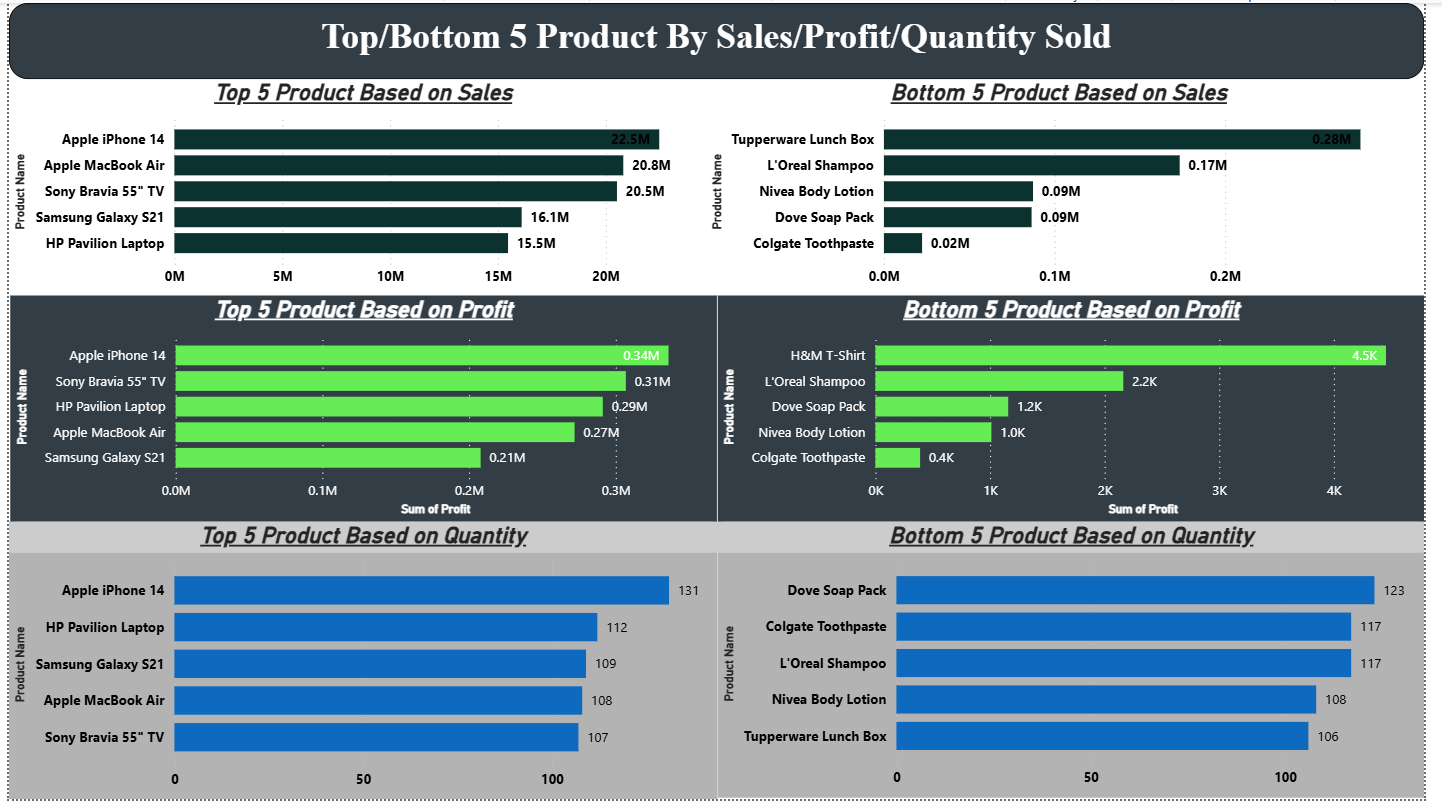

What the dashboard file says about the page in this screenshot:
{"tool":"powerbi","page":{"name":"Page 1","canvas":[1280,720],"ordinal":0},"visuals":[{"type":"barChart","title":"Top 5 Product Based on Sales","fields":{"Category":["Sheet3.Dim Product.Product Name"],"Y":["Sum(Sheet3.Total Sales.1)"]},"box":[0,68.6,640.7,196.5],"z":0},{"type":"barChart","title":"Bottom 5 Product Based on Sales","fields":{"Category":["Sheet3.Dim Product.Product Name"],"Y":["Sum(Sheet3.Total Sales.1)"]},"box":[630.2,68.6,639.5,196.5],"z":1000},{"type":"barChart","title":"Top 5 Product Based on Profit","fields":{"Category":["Sheet3.Dim Product.Product Name"],"Y":["Sum(Sheet3.Profit)"]},"box":[1.2,265.1,639.5,204.7],"z":2000},{"type":"barChart","title":"Bottom 5 Product Based on Profit","fields":{"Category":["Sheet3.Dim Product.Product Name"],"Y":["Sum(Sheet3.Profit)"]},"box":[640.7,265.1,639.5,204.7],"z":3000},{"type":"textbox","box":[0,0,1280.3,68.6],"z":4000},{"type":"barChart","title":"Top 5 Product Based on Quantity","fields":{"Category":["Sheet3.Dim Product.Product Name"],"Y":["CountNonNull(Sheet3.Dim Product.Price (INR))"]},"box":[0,469.3,640.8,251.1],"z":5000},{"type":"barChart","title":"Bottom 5 Product Based on Quantity","fields":{"Category":["Sheet3.Dim Product.Product Name"],"Y":["CountNonNull(Sheet3.Dim Product.Price (INR))"]},"box":[640.8,469.3,639.5,249.7],"z":6000}]}

Visuals, with their boxes in screenshot pixels (x1, y1, x2, y2), scaled from the page's 1280x720 canvas onto the 1442x806 screenshot:
"Top 5 Product Based on Sales" barChart: 0,77,722,297
"Bottom 5 Product Based on Sales" barChart: 710,77,1430,297
"Top 5 Product Based on Profit" barChart: 1,297,722,526
"Bottom 5 Product Based on Profit" barChart: 722,297,1441,526
textbox: 0,0,1441,77
"Top 5 Product Based on Quantity" barChart: 0,525,722,805
"Bottom 5 Product Based on Quantity" barChart: 722,525,1441,805
